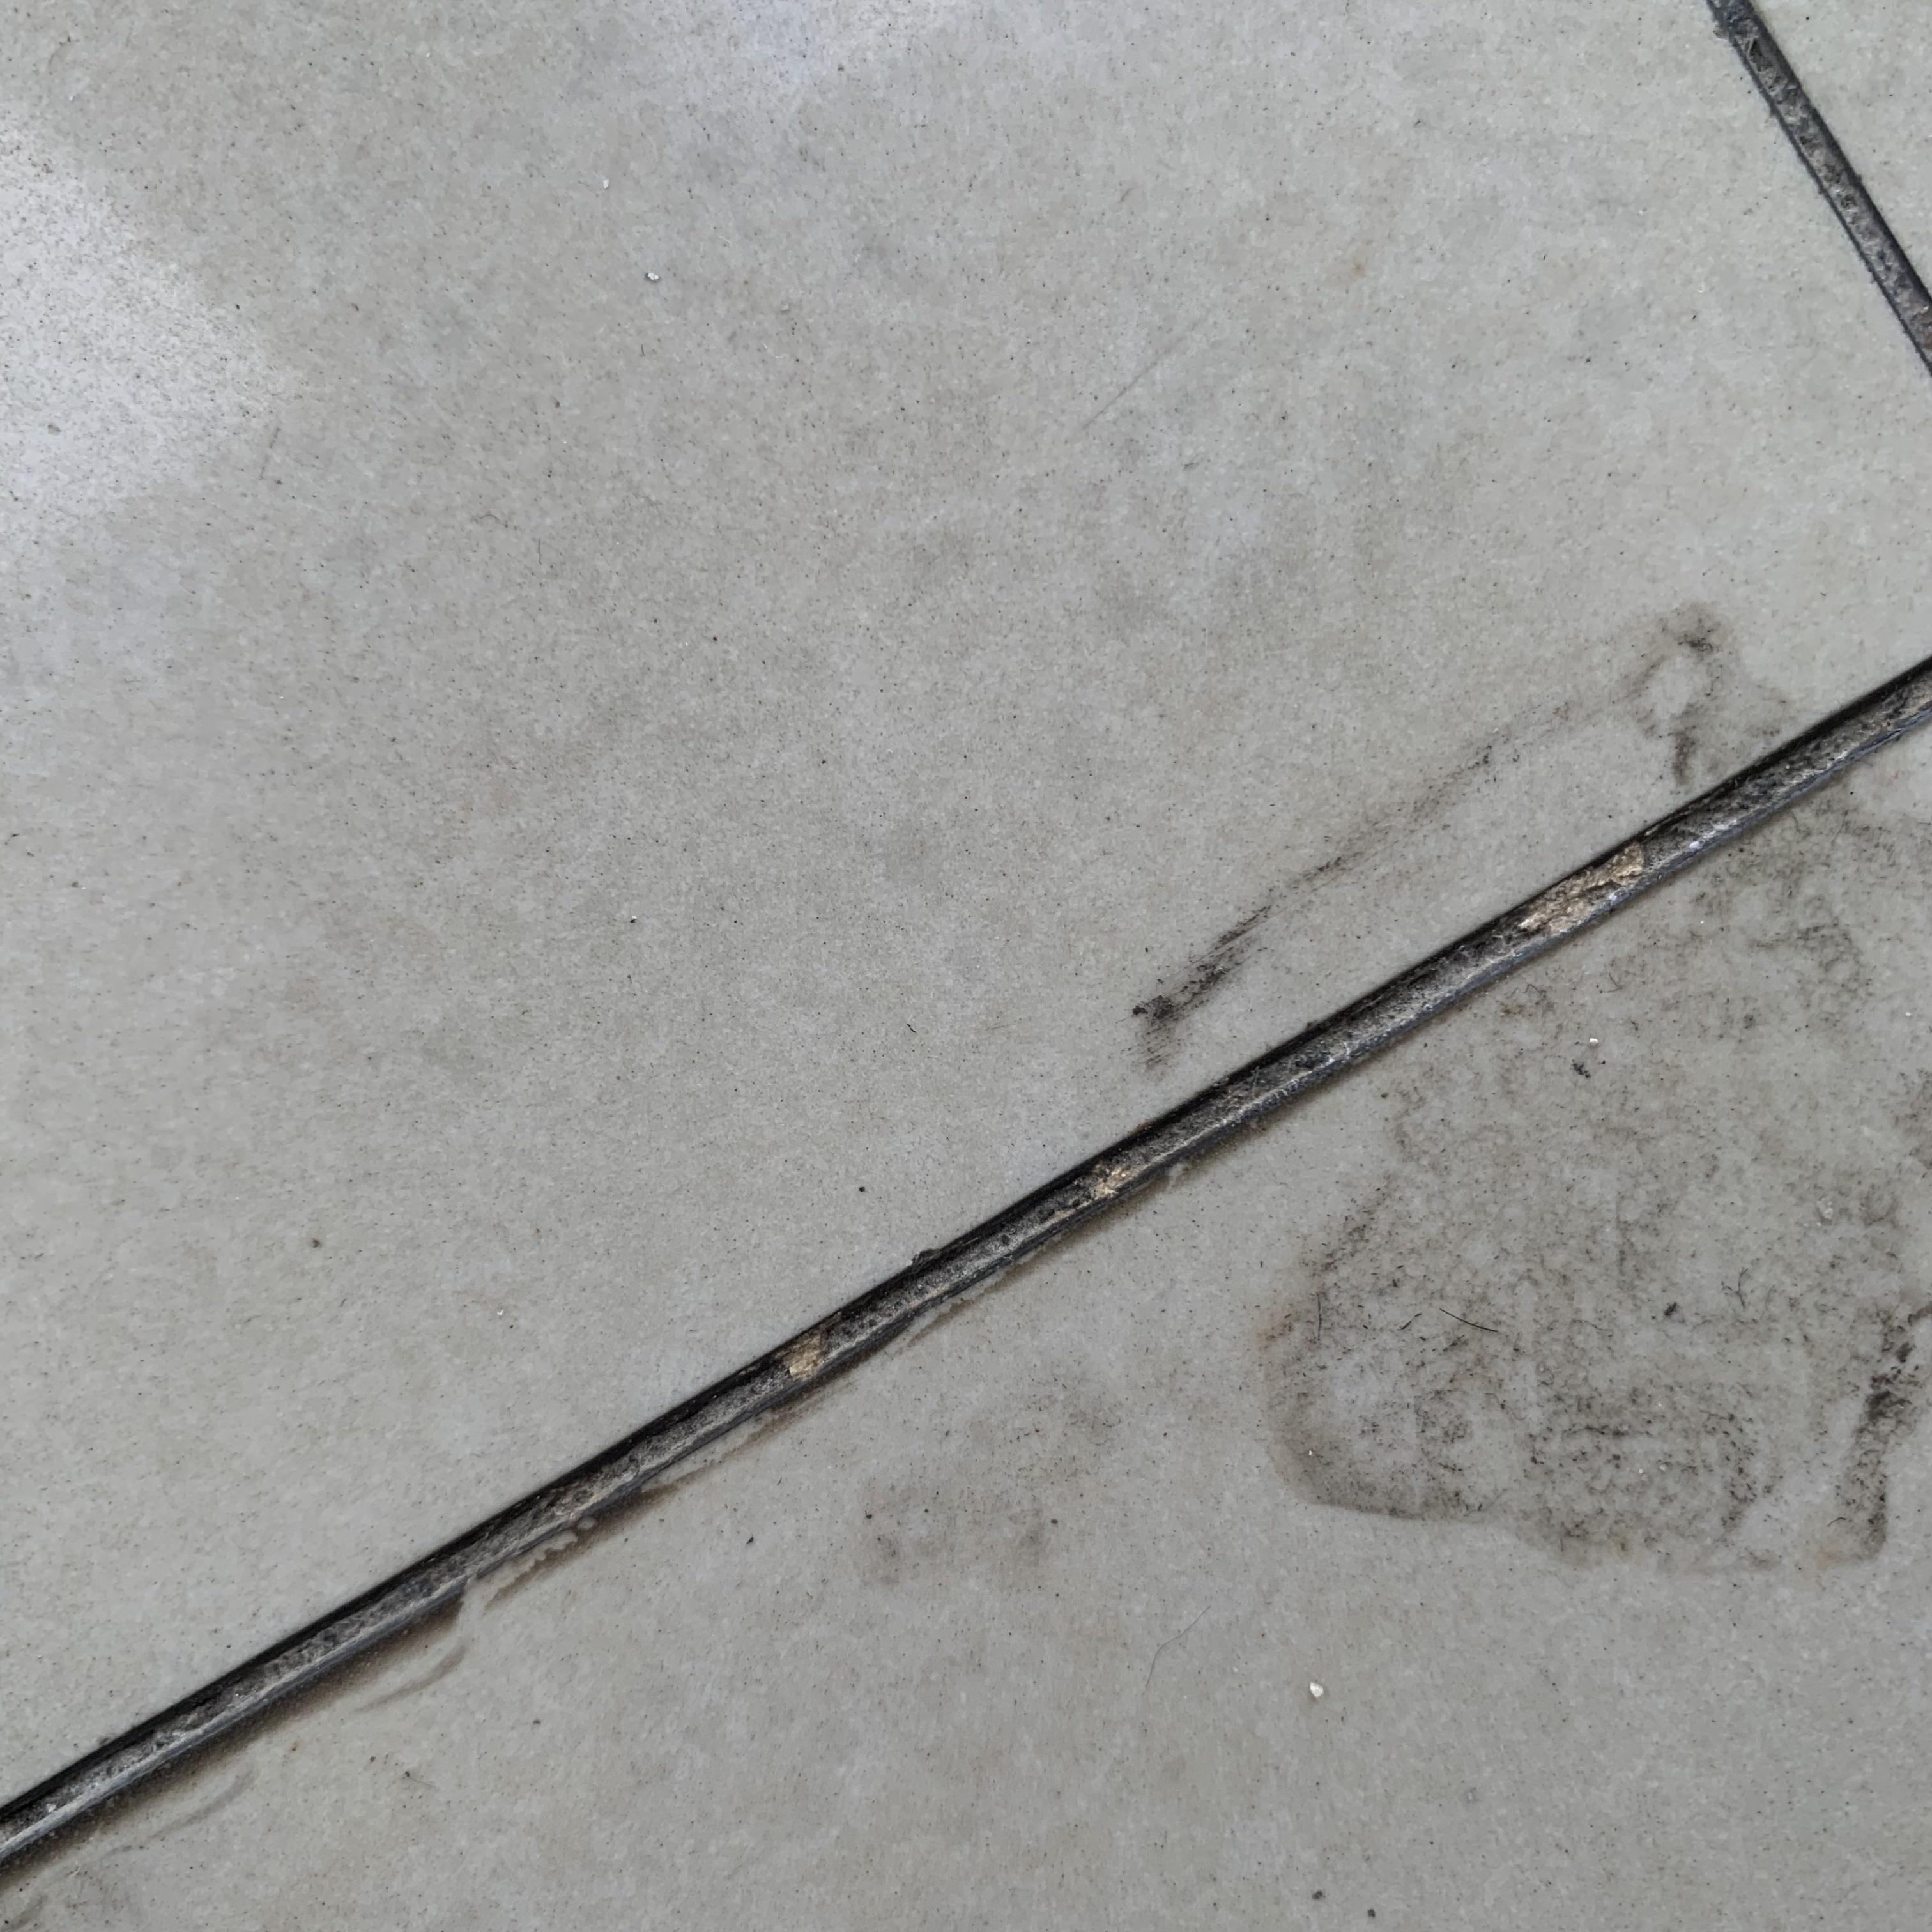grey spot: (1136, 600, 1932, 1573)
reflection: (0, 113, 308, 580), (607, 5, 966, 138)
